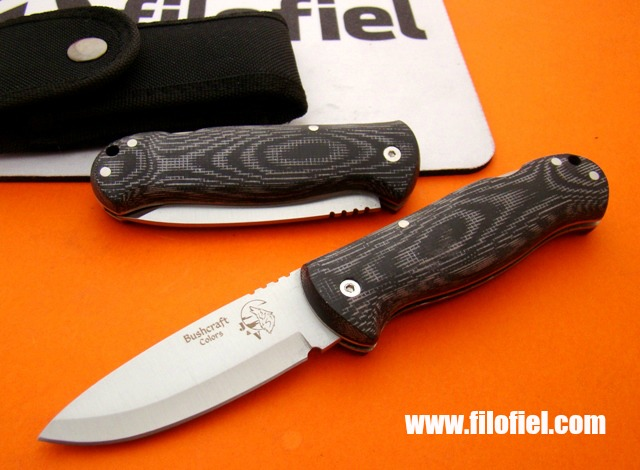knife: (20, 238, 412, 452)
